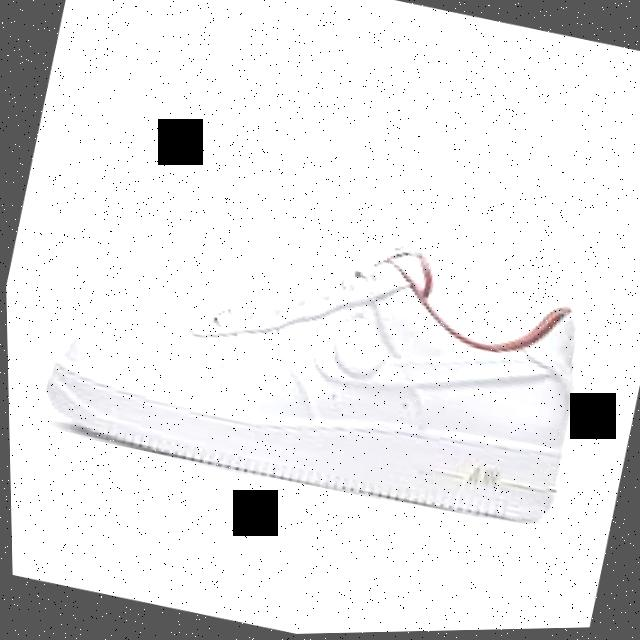shoes: (17, 161, 608, 545)
